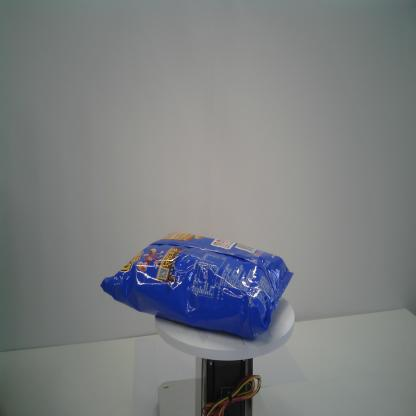Puffed Food: (98, 230, 294, 343)
